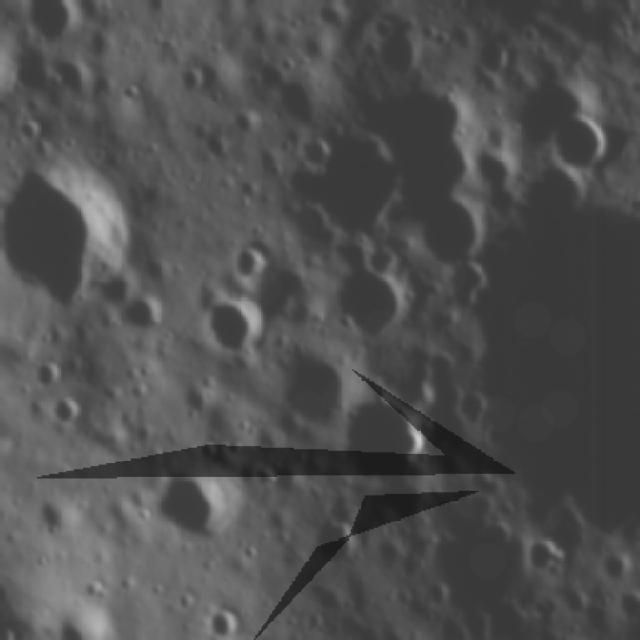crater: (463, 181, 640, 534), (0, 138, 137, 314), (336, 382, 432, 486), (272, 334, 362, 440), (323, 256, 415, 353), (394, 184, 489, 276), (149, 462, 242, 550), (186, 281, 268, 374), (542, 102, 628, 188), (374, 12, 424, 88), (43, 601, 119, 640), (222, 236, 280, 287), (121, 287, 164, 350), (28, 0, 86, 45), (0, 28, 26, 121), (195, 600, 250, 640), (240, 638, 286, 640), (0, 635, 6, 640)
